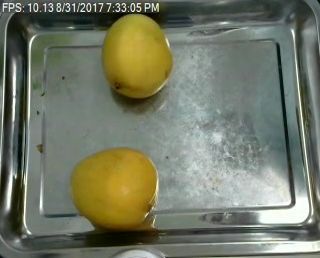Mango: (71, 147, 158, 229), (101, 13, 174, 99)
